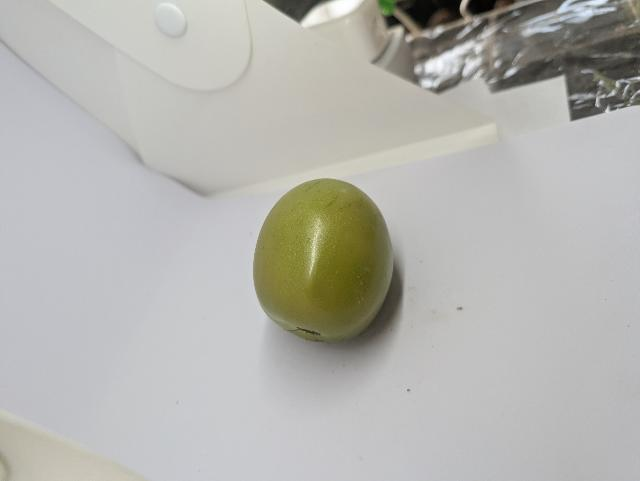green: (225, 168, 411, 365)
